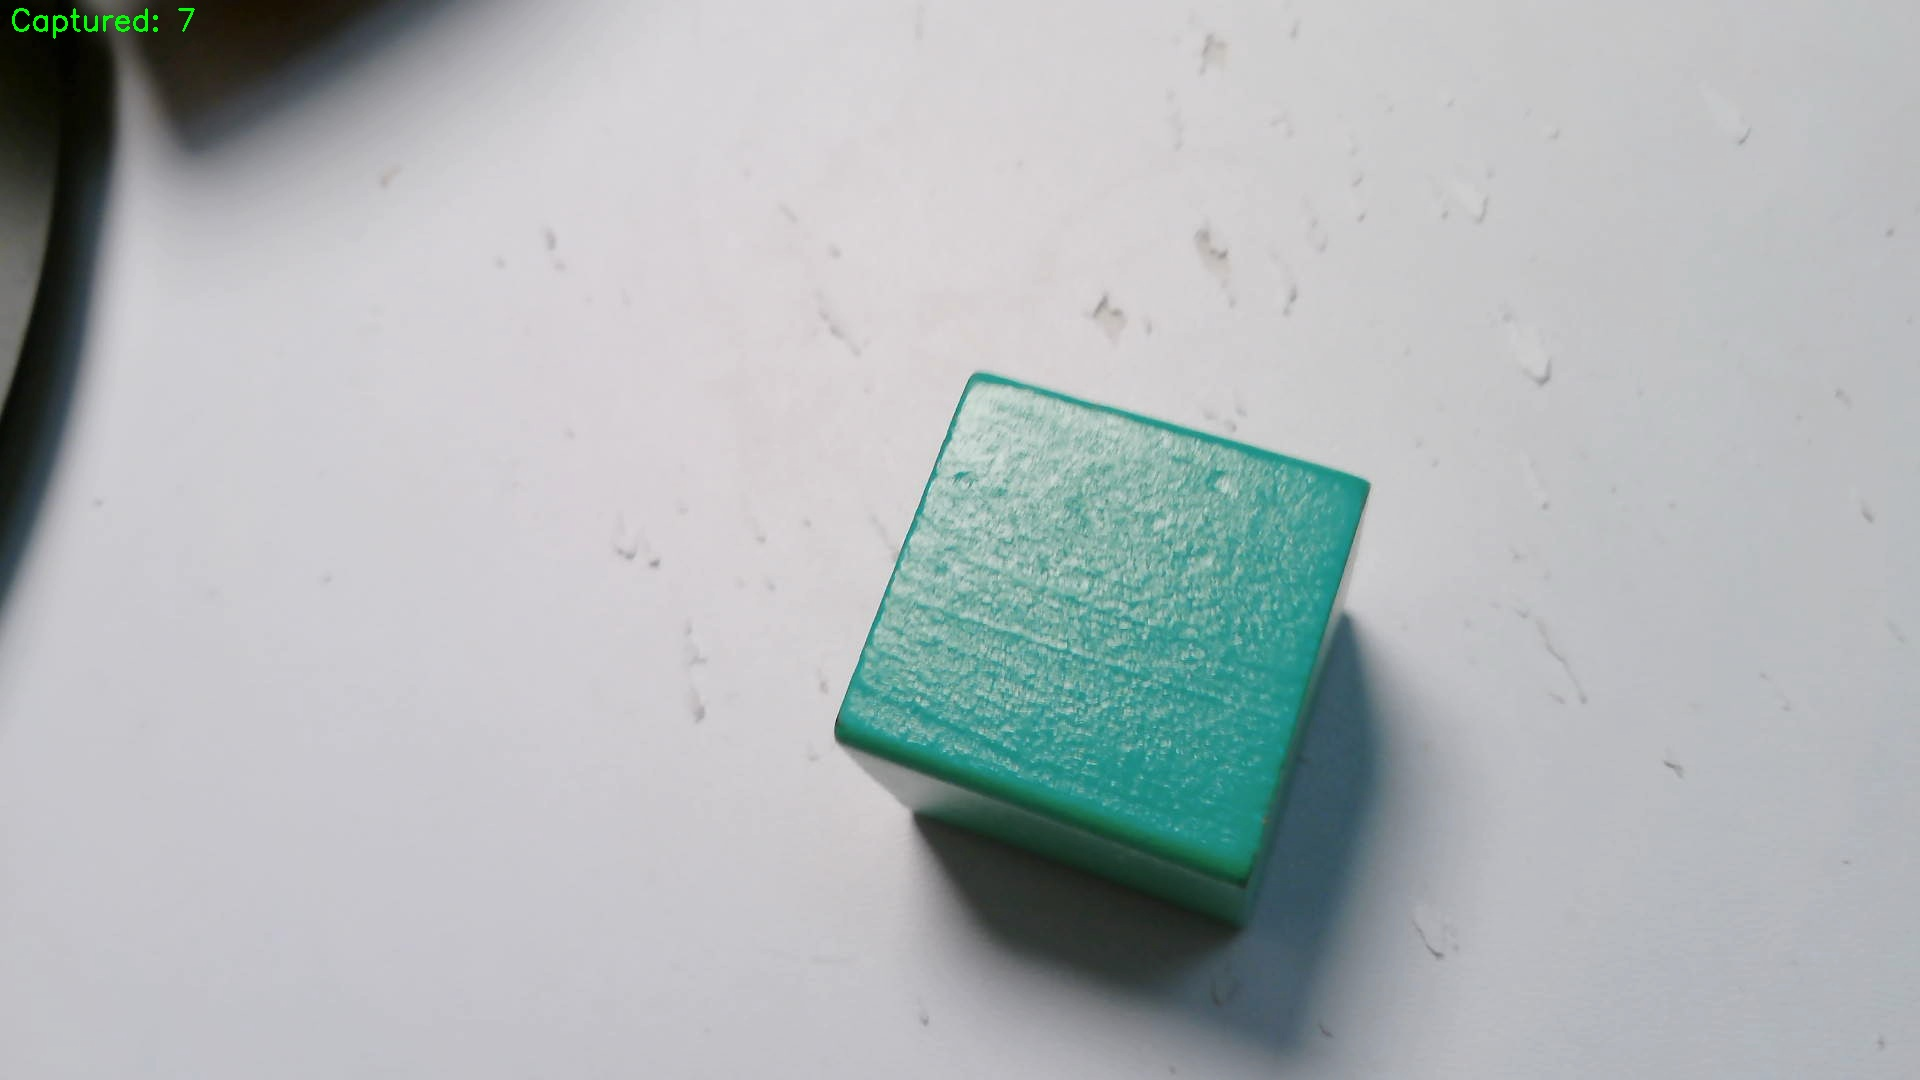green: (848, 375, 1374, 931)
